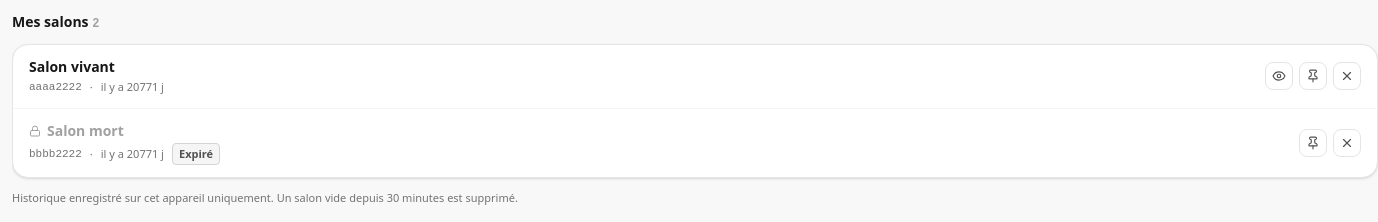
Test case: MyRooms › liste les salons visités, marque « Expiré » ceux disparus du serveur, et permet de retirer
The image size is (1378, 222).
expect the text "Salon mort" is shown: met, box [47, 120, 124, 140]
expect the text "Expiré" is shown: met, box [172, 142, 220, 165]
Click the button named "Retirer Salon mort".
click(1347, 143)  # box [1333, 129, 1361, 157]
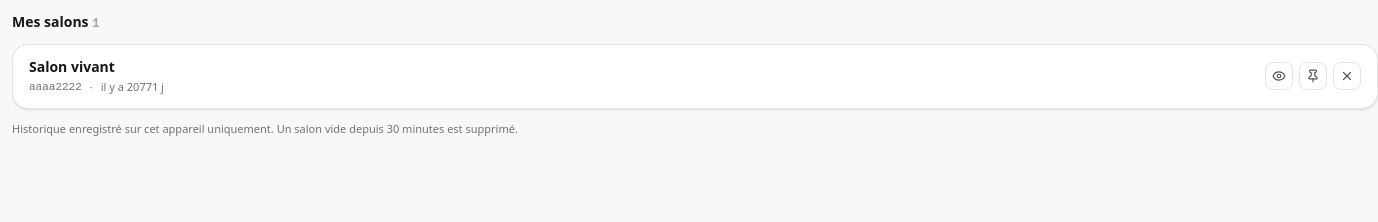
expect the link "Salon mort" is gone: met
